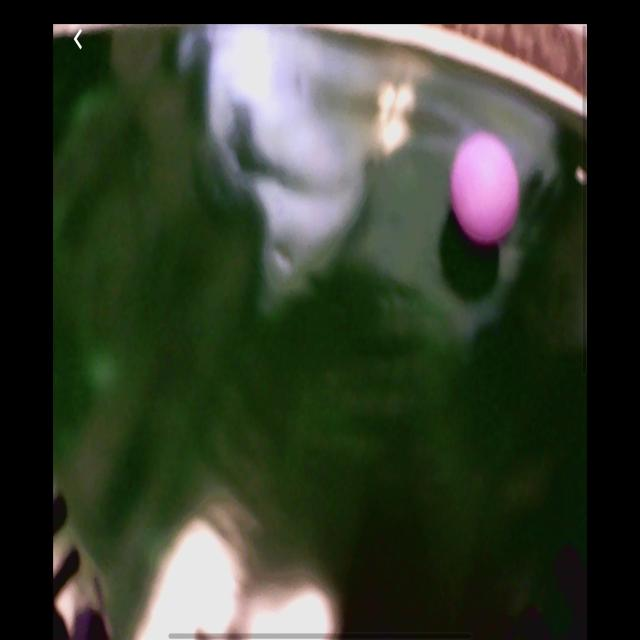ball: (451, 132, 520, 250)
